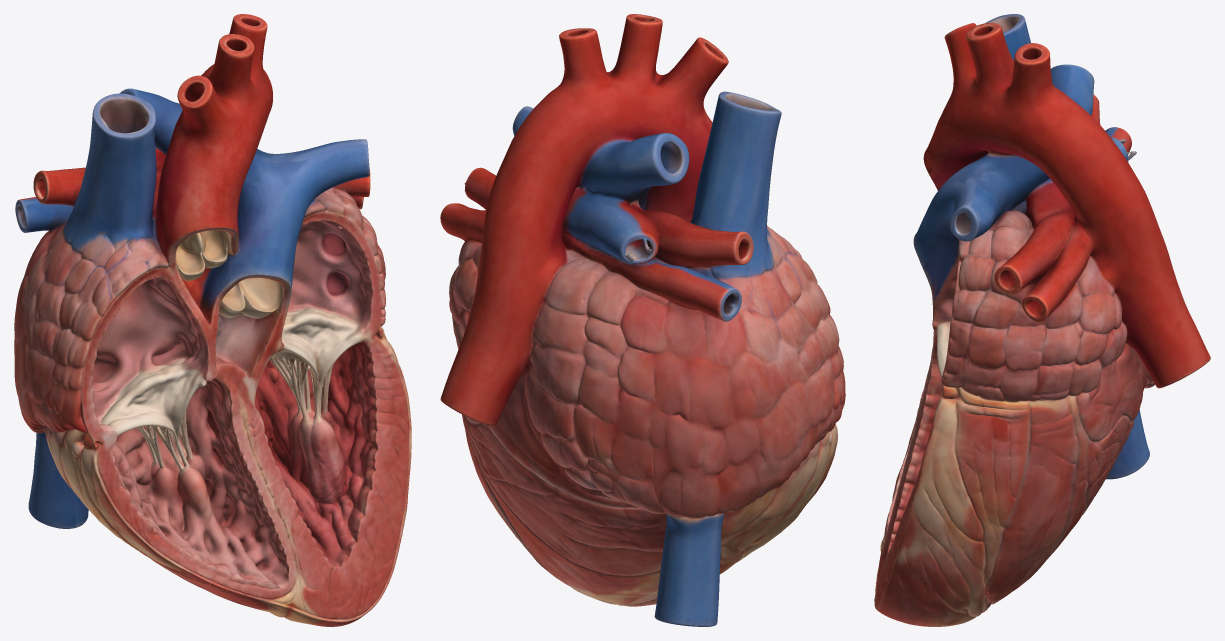
File: coracao.glb
The picture shows the model from 3 angles, left to right: view 1: azimuth 30°, elevation 25°; view 2: azimuth 150°, elevation 25°; view 3: azimuth 270°, elevation 25°; orthographic projection. The views are drawn at different scales.
Parts seen in each view (by area): view 1: human-heart-cutaway; view 2: human-heart-cutaway; view 3: human-heart-cutaway.
Part boxes in pixels (x1,y1,x2,y2): human-heart-cutaway: (14,14,411,626); human-heart-cutaway: (440,14,845,626); human-heart-cutaway: (874,14,1210,626).
Size of the model in its own units: 0.0827 by 0.13 by 0.0701.
Materials: 1 (1 with a texture image).
